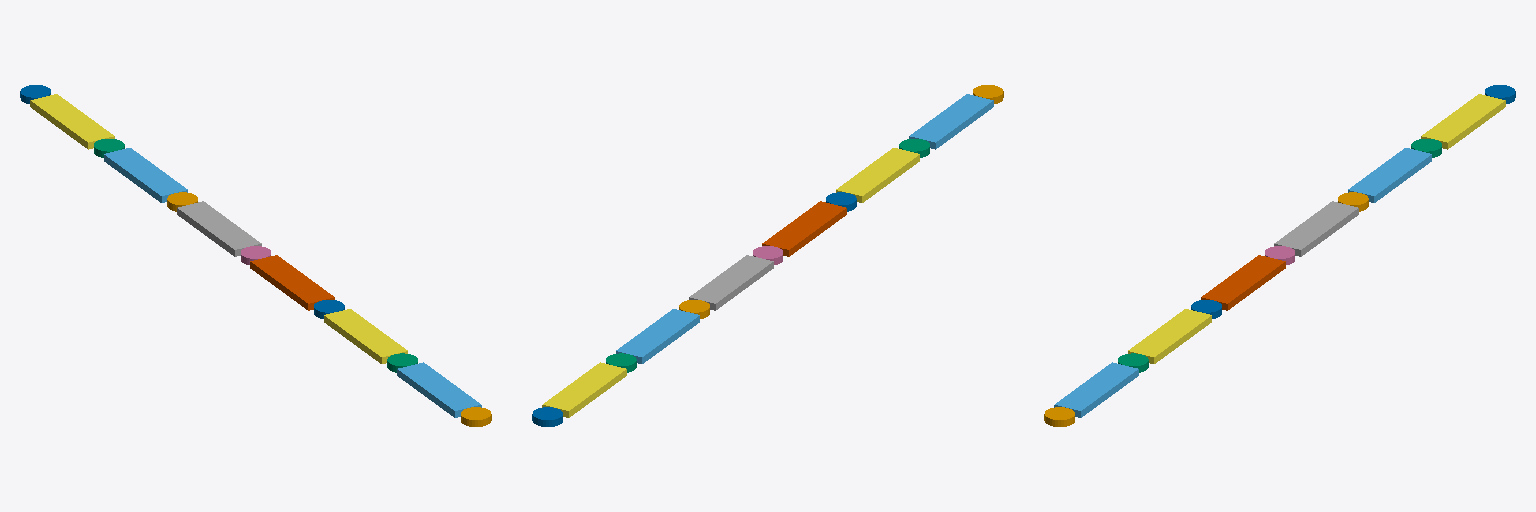
robot.urdf — planar_manipulator/6dof_manip_no_endeffector:
<?xml version="1.0"?>
<robot name="planar_manipulator/6dof_manip_no_endeffector">
 <link name="jlink0">
  <inertial>
    <mass value="1"/>
    <inertia ixx="0.0108333333333" ixy="0" ixz="0" iyy="0.0108333333333" iyz="0" izz="0.01"/>
  </inertial>
  <visual>
    <origin rpy="0 0 1.57" xyz="0 0 0"/>
    <geometry>
      <cylinder length="0.1" radius="0.2"/>
    </geometry>
  </visual>
  <collision>
    <origin rpy="0 0 1.57" xyz="0 0 0"/>
    <geometry>
      <cylinder length="0.1" radius="0.2"/>
    </geometry>
  </collision>
 </link>

 <link name="link0">
  <inertial>
    <mass value="1"/>
    <inertia ixx="0.0141666666667" ixy="0" ixz="0" iyy="0.200833333333" iyz="0" izz="0.188333333333"/>
  </inertial>
  <visual>
    <origin rpy="0 0 0" xyz="0 0.95 0"/>
    <geometry>
      <box size="0.4 1.5 0.1"/>
    </geometry>
  </visual>
  <collision>
    <origin rpy="0 0 0" xyz="0 0.95 0"/>
    <geometry>
      <box size="0.4 1.5 0.1"/>
    </geometry>
  </collision>
 </link>

<joint name="joint_revolute_jlink0_link0_Z" type="revolute">
  <origin rpy="0 0 0" xyz="0 0 0"/>
  <parent link="jlink0"/>
  <child link="link0"/>
  <axis xyz="0 0 1"/>
  <dynamics damping="0.01" friction="0.5"/>
  <limit lower="-3.14" upper="3.14" effort="0.01" velocity="100"/>
</joint>

 <link name="jlink1">
  <inertial>
    <mass value="1"/>
    <inertia ixx="0.0108333333333" ixy="0" ixz="0" iyy="0.0108333333333" iyz="0" izz="0.01"/>
  </inertial>
  <visual>
    <origin rpy="0 0 1.57" xyz="0 0 0"/>
    <geometry>
      <cylinder length="0.1" radius="0.2"/>
    </geometry>
  </visual>
  <collision>
    <origin rpy="0 0 1.57" xyz="0 0 0"/>
    <geometry>
      <cylinder length="0.1" radius="0.2"/>
    </geometry>
  </collision>
 </link>

<joint name="joint_fixed_link0_jlink1" type="fixed">
  <origin rpy="0 0 0" xyz="0 1.9 0"/>
  <parent link="link0"/>
  <child link="jlink1"/>
</joint>

 <link name="link1">
  <inertial>
    <mass value="1"/>
    <inertia ixx="0.0141666666667" ixy="0" ixz="0" iyy="0.200833333333" iyz="0" izz="0.188333333333"/>
  </inertial>
  <visual>
    <origin rpy="0 0 0" xyz="0 0.95 0"/>
    <geometry>
      <box size="0.4 1.5 0.1"/>
    </geometry>
  </visual>
  <collision>
    <origin rpy="0 0 0" xyz="0 0.95 0"/>
    <geometry>
      <box size="0.4 1.5 0.1"/>
    </geometry>
  </collision>
 </link>

<joint name="joint_revolute_jlink1_link1_Z" type="revolute">
  <origin rpy="0 0 0" xyz="0 0 0"/>
  <parent link="jlink1"/>
  <child link="link1"/>
  <axis xyz="0 0 1"/>
  <dynamics damping="0.01" friction="0.5"/>
  <limit lower="-3.14" upper="3.14" effort="0.01" velocity="100"/>
</joint>

 <link name="jlink2">
  <inertial>
    <mass value="1"/>
    <inertia ixx="0.0108333333333" ixy="0" ixz="0" iyy="0.0108333333333" iyz="0" izz="0.01"/>
  </inertial>
  <visual>
    <origin rpy="0 0 1.57" xyz="0 0 0"/>
    <geometry>
      <cylinder length="0.1" radius="0.2"/>
    </geometry>
  </visual>
  <collision>
    <origin rpy="0 0 1.57" xyz="0 0 0"/>
    <geometry>
      <cylinder length="0.1" radius="0.2"/>
    </geometry>
  </collision>
 </link>

<joint name="joint_fixed_link1_jlink2" type="fixed">
  <origin rpy="0 0 0" xyz="0 1.9 0"/>
  <parent link="link1"/>
  <child link="jlink2"/>
</joint>

 <link name="link2">
  <inertial>
    <mass value="1"/>
    <inertia ixx="0.0141666666667" ixy="0" ixz="0" iyy="0.200833333333" iyz="0" izz="0.188333333333"/>
  </inertial>
  <visual>
    <origin rpy="0 0 0" xyz="0 0.95 0"/>
    <geometry>
      <box size="0.4 1.5 0.1"/>
    </geometry>
  </visual>
  <collision>
    <origin rpy="0 0 0" xyz="0 0.95 0"/>
    <geometry>
      <box size="0.4 1.5 0.1"/>
    </geometry>
  </collision>
 </link>

<joint name="joint_revolute_jlink2_link2_Z" type="revolute">
  <origin rpy="0 0 0" xyz="0 0 0"/>
  <parent link="jlink2"/>
  <child link="link2"/>
  <axis xyz="0 0 1"/>
  <dynamics damping="0.01" friction="0.5"/>
  <limit lower="-3.14" upper="3.14" effort="0.01" velocity="100"/>
</joint>

 <link name="jlink3">
  <inertial>
    <mass value="1"/>
    <inertia ixx="0.0108333333333" ixy="0" ixz="0" iyy="0.0108333333333" iyz="0" izz="0.01"/>
  </inertial>
  <visual>
    <origin rpy="0 0 1.57" xyz="0 0 0"/>
    <geometry>
      <cylinder length="0.1" radius="0.2"/>
    </geometry>
  </visual>
  <collision>
    <origin rpy="0 0 1.57" xyz="0 0 0"/>
    <geometry>
      <cylinder length="0.1" radius="0.2"/>
    </geometry>
  </collision>
 </link>

<joint name="joint_fixed_link2_jlink3" type="fixed">
  <origin rpy="0 0 0" xyz="0 1.9 0"/>
  <parent link="link2"/>
  <child link="jlink3"/>
</joint>

 <link name="link3">
  <inertial>
    <mass value="1"/>
    <inertia ixx="0.0141666666667" ixy="0" ixz="0" iyy="0.200833333333" iyz="0" izz="0.188333333333"/>
  </inertial>
  <visual>
    <origin rpy="0 0 0" xyz="0 0.95 0"/>
    <geometry>
      <box size="0.4 1.5 0.1"/>
    </geometry>
  </visual>
  <collision>
    <origin rpy="0 0 0" xyz="0 0.95 0"/>
    <geometry>
      <box size="0.4 1.5 0.1"/>
    </geometry>
  </collision>
 </link>

<joint name="joint_revolute_jlink3_link3_Z" type="revolute">
  <origin rpy="0 0 0" xyz="0 0 0"/>
  <parent link="jlink3"/>
  <child link="link3"/>
  <axis xyz="0 0 1"/>
  <dynamics damping="0.01" friction="0.5"/>
  <limit lower="-3.14" upper="3.14" effort="0.01" velocity="100"/>
</joint>

 <link name="jlink4">
  <inertial>
    <mass value="1"/>
    <inertia ixx="0.0108333333333" ixy="0" ixz="0" iyy="0.0108333333333" iyz="0" izz="0.01"/>
  </inertial>
  <visual>
    <origin rpy="0 0 1.57" xyz="0 0 0"/>
    <geometry>
      <cylinder length="0.1" radius="0.2"/>
    </geometry>
  </visual>
  <collision>
    <origin rpy="0 0 1.57" xyz="0 0 0"/>
    <geometry>
      <cylinder length="0.1" radius="0.2"/>
    </geometry>
  </collision>
 </link>

<joint name="joint_fixed_link3_jlink4" type="fixed">
  <origin rpy="0 0 0" xyz="0 1.9 0"/>
  <parent link="link3"/>
  <child link="jlink4"/>
</joint>

 <link name="link4">
  <inertial>
    <mass value="1"/>
    <inertia ixx="0.0141666666667" ixy="0" ixz="0" iyy="0.200833333333" iyz="0" izz="0.188333333333"/>
  </inertial>
  <visual>
    <origin rpy="0 0 0" xyz="0 0.95 0"/>
    <geometry>
      <box size="0.4 1.5 0.1"/>
    </geometry>
  </visual>
  <collision>
    <origin rpy="0 0 0" xyz="0 0.95 0"/>
    <geometry>
      <box size="0.4 1.5 0.1"/>
    </geometry>
  </collision>
 </link>

<joint name="joint_revolute_jlink4_link4_Z" type="revolute">
  <origin rpy="0 0 0" xyz="0 0 0"/>
  <parent link="jlink4"/>
  <child link="link4"/>
  <axis xyz="0 0 1"/>
  <dynamics damping="0.01" friction="0.5"/>
  <limit lower="-3.14" upper="3.14" effort="0.01" velocity="100"/>
</joint>

 <link name="jlink5">
  <inertial>
    <mass value="1"/>
    <inertia ixx="0.0108333333333" ixy="0" ixz="0" iyy="0.0108333333333" iyz="0" izz="0.01"/>
  </inertial>
  <visual>
    <origin rpy="0 0 1.57" xyz="0 0 0"/>
    <geometry>
      <cylinder length="0.1" radius="0.2"/>
    </geometry>
  </visual>
  <collision>
    <origin rpy="0 0 1.57" xyz="0 0 0"/>
    <geometry>
      <cylinder length="0.1" radius="0.2"/>
    </geometry>
  </collision>
 </link>

<joint name="joint_fixed_link4_jlink5" type="fixed">
  <origin rpy="0 0 0" xyz="0 1.9 0"/>
  <parent link="link4"/>
  <child link="jlink5"/>
</joint>

 <link name="link5">
  <inertial>
    <mass value="1"/>
    <inertia ixx="0.0141666666667" ixy="0" ixz="0" iyy="0.200833333333" iyz="0" izz="0.188333333333"/>
  </inertial>
  <visual>
    <origin rpy="0 0 0" xyz="0 0.95 0"/>
    <geometry>
      <box size="0.4 1.5 0.1"/>
    </geometry>
  </visual>
  <collision>
    <origin rpy="0 0 0" xyz="0 0.95 0"/>
    <geometry>
      <box size="0.4 1.5 0.1"/>
    </geometry>
  </collision>
 </link>

<joint name="joint_revolute_jlink5_link5_Z" type="revolute">
  <origin rpy="0 0 0" xyz="0 0 0"/>
  <parent link="jlink5"/>
  <child link="link5"/>
  <axis xyz="0 0 1"/>
  <dynamics damping="0.01" friction="0.5"/>
  <limit lower="-3.14" upper="3.14" effort="0.01" velocity="100"/>
</joint>

 <link name="jlink6">
  <inertial>
    <mass value="1"/>
    <inertia ixx="0.0108333333333" ixy="0" ixz="0" iyy="0.0108333333333" iyz="0" izz="0.01"/>
  </inertial>
  <visual>
    <origin rpy="0 0 1.57" xyz="0 0 0"/>
    <geometry>
      <cylinder length="0.1" radius="0.2"/>
    </geometry>
  </visual>
  <collision>
    <origin rpy="0 0 1.57" xyz="0 0 0"/>
    <geometry>
      <cylinder length="0.1" radius="0.2"/>
    </geometry>
  </collision>
 </link>

<joint name="joint_fixed_link5_jlink6" type="fixed">
  <origin rpy="0 0 0" xyz="0 1.9 0"/>
  <parent link="link5"/>
  <child link="jlink6"/>
</joint>

  <klampt package_root="../../.." default_acc_max="4" >
  </klampt>
</robot>

--- Render facts (derived) ---
The picture shows the robot from 3 angles, left to right: view 1: azimuth 30°, elevation 25°; view 2: azimuth 150°, elevation 25°; view 3: azimuth 330°, elevation 25°; orthographic projection.
Model planar_manipulator/6dof_manip_no_endeffector with 13 links and 12 joints (6 revolute, 6 fixed), rooted at jlink0, posed every joint at zero.
Visible links, largest first — view 1: link2, link5, link0, link3, link1, link4, jlink0; view 2: link3, link0, link2, link5, link4, link1, jlink6; view 3: link2, link5, link0, link3, link1, link4, jlink0.
Link boxes in pixels (x1,y1,x2,y2): link2: [250, 255, 334, 310]; link5: [30, 94, 114, 149]; link0: [397, 362, 481, 417]; link3: [177, 201, 261, 256]; link1: [324, 309, 407, 363]; link4: [104, 148, 187, 202]; jlink0: [461, 407, 491, 426]; link3: [689, 255, 773, 310]; link0: [909, 94, 993, 149]; link2: [762, 201, 846, 256]; link5: [542, 362, 626, 417]; link4: [616, 309, 699, 363]; link1: [836, 148, 919, 202]; jlink6: [532, 407, 562, 426]; link2: [1201, 255, 1285, 310]; link5: [1421, 94, 1505, 149]; link0: [1054, 362, 1138, 417]; link3: [1274, 201, 1358, 256]; link1: [1128, 309, 1211, 363]; link4: [1348, 148, 1431, 202]; jlink0: [1044, 407, 1074, 426].
Bounding box of the posed robot: 0.4 × 11.8 × 0.1 m (x, y, z).
Geometry: primitives only (box / cylinder / sphere), no mesh files.